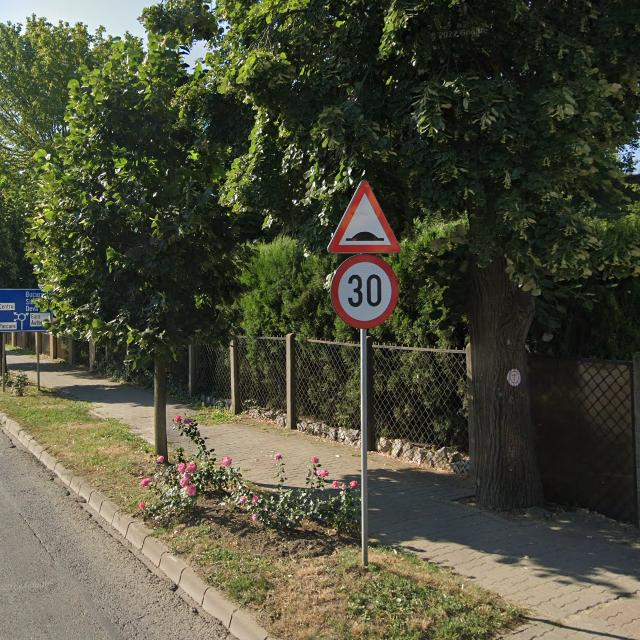forb_speed_over_30: (332, 254, 399, 329)
warn_speed_bumper: (327, 178, 401, 254)
